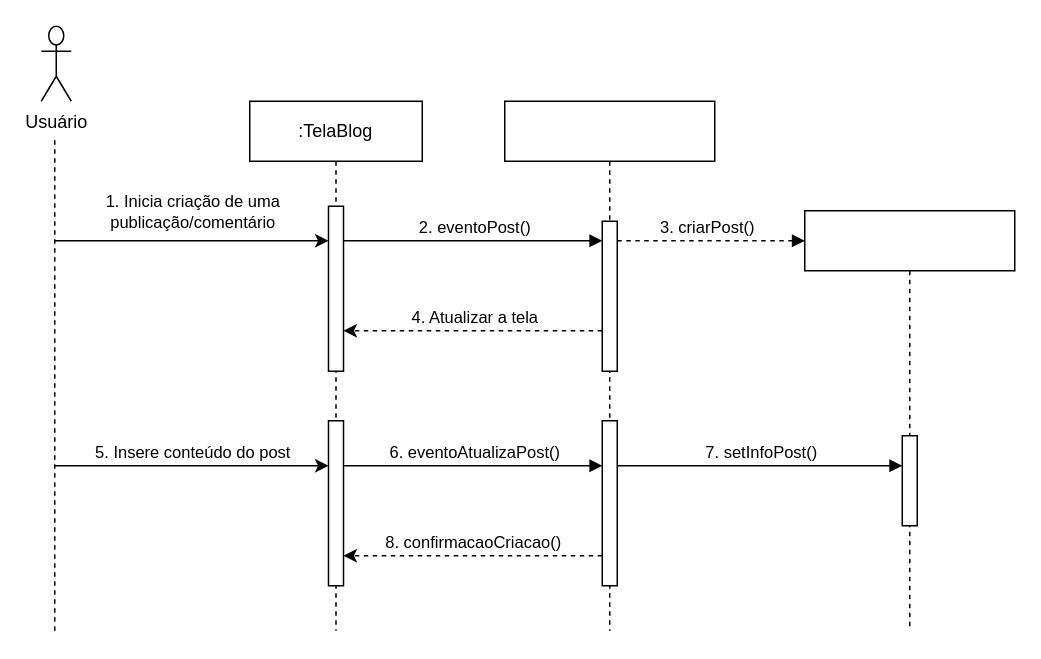
Some shapes in this 1041 by 659 pixel diagram are drawn without their labels. The centre of each missing label's shape, as x and y in pixels:
":ControladorBlog" belongs at pixel 609 365.
":Postagem" belongs at pixel 909 420.
